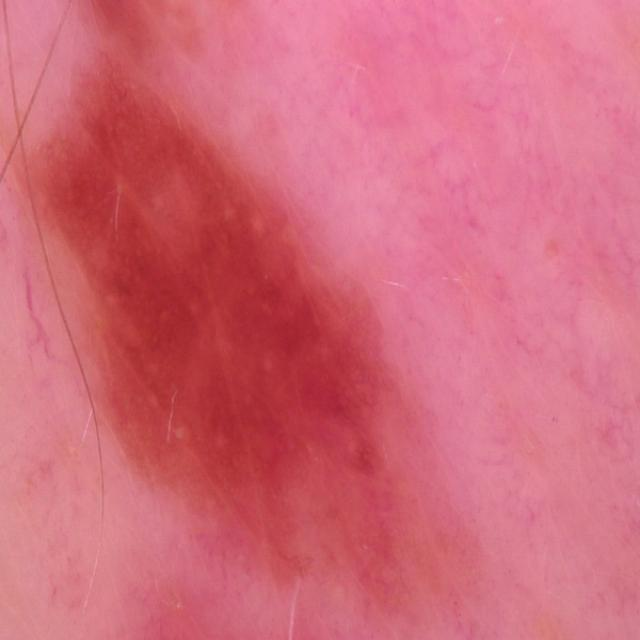NV: (19, 38, 427, 612)
